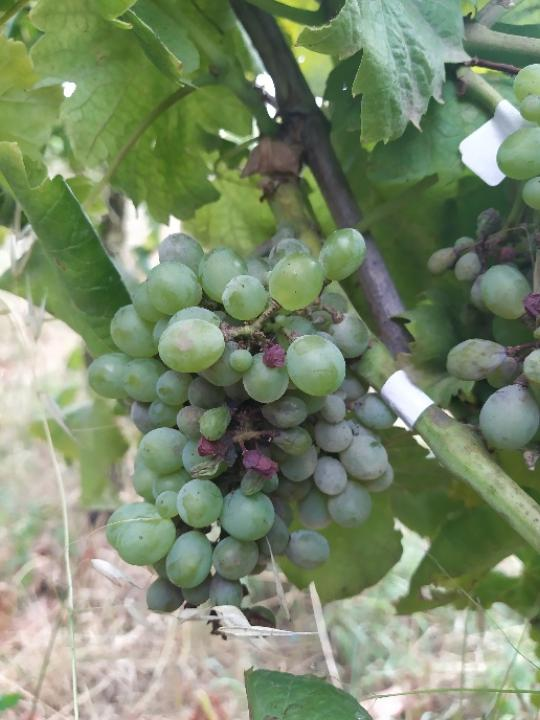grape: (82, 224, 399, 619)
